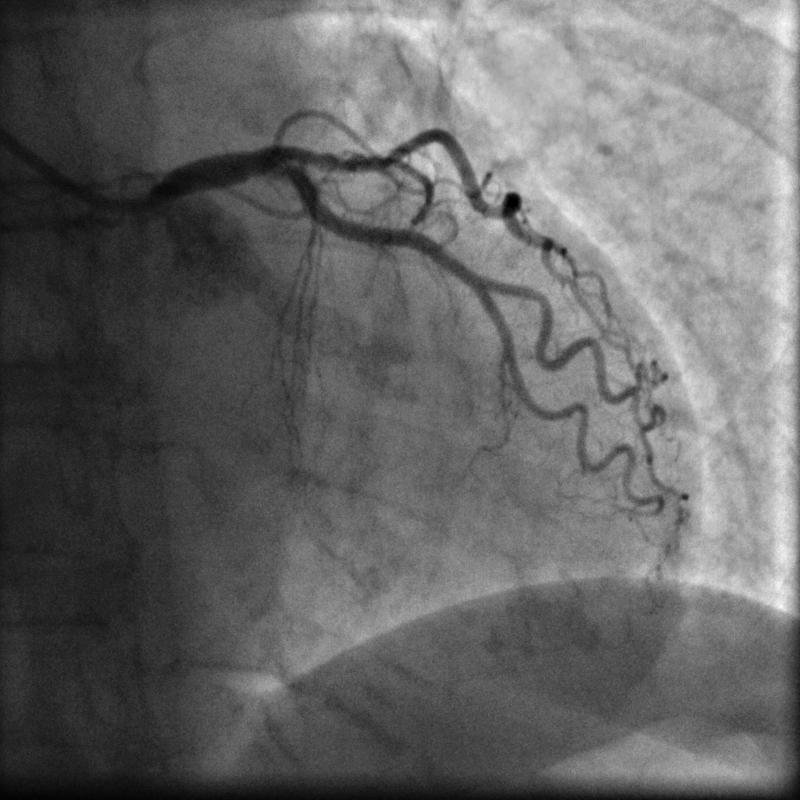Stenosis: (333, 151, 362, 170)
